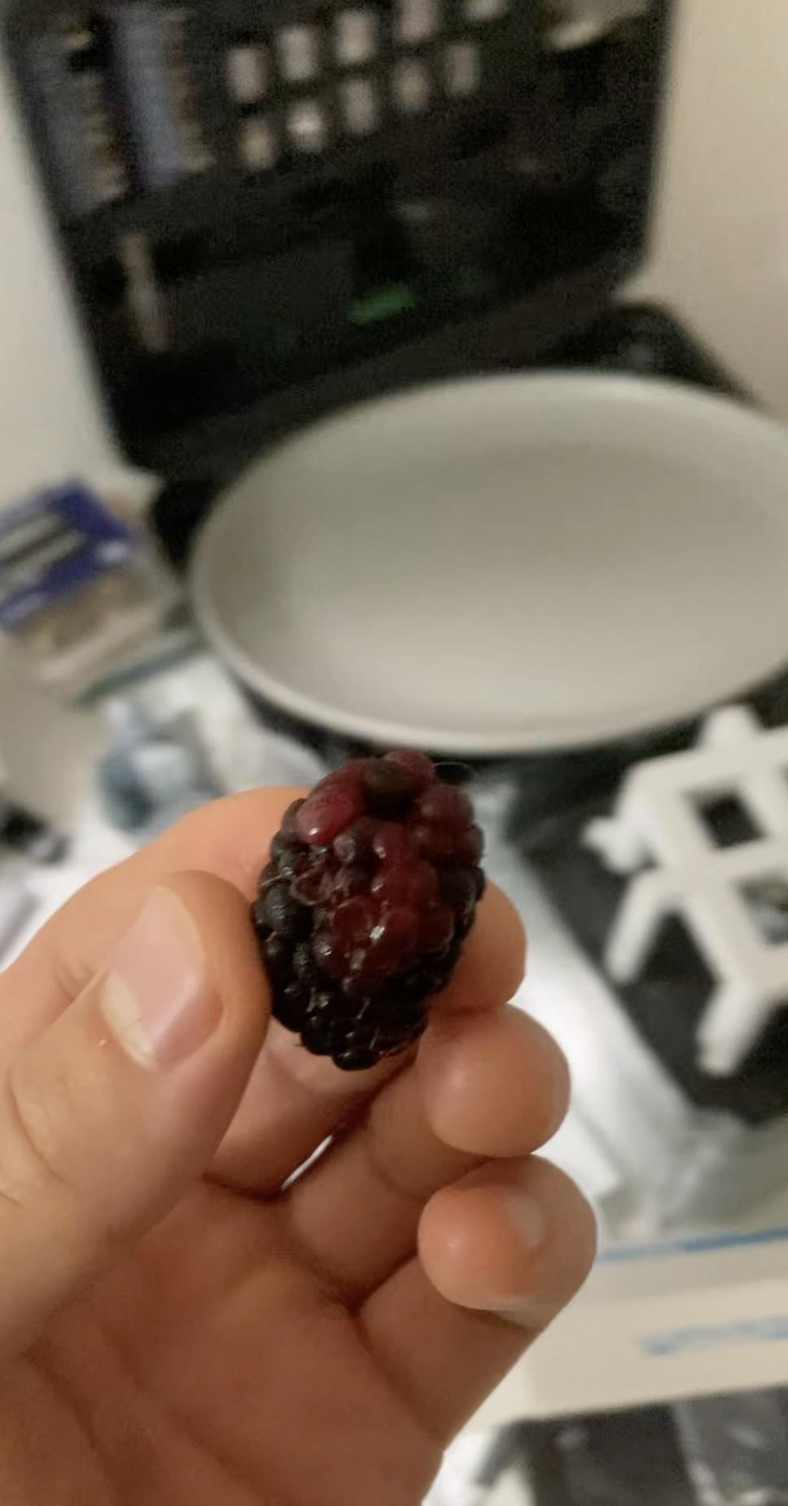berry: (252, 751, 484, 1070)
red drouplet: (292, 761, 375, 846), (417, 782, 473, 838), (331, 895, 376, 957), (380, 749, 435, 794), (373, 904, 419, 956), (409, 808, 448, 867), (372, 821, 413, 873), (371, 860, 410, 908), (348, 947, 393, 985), (313, 935, 350, 979), (409, 860, 438, 903)
